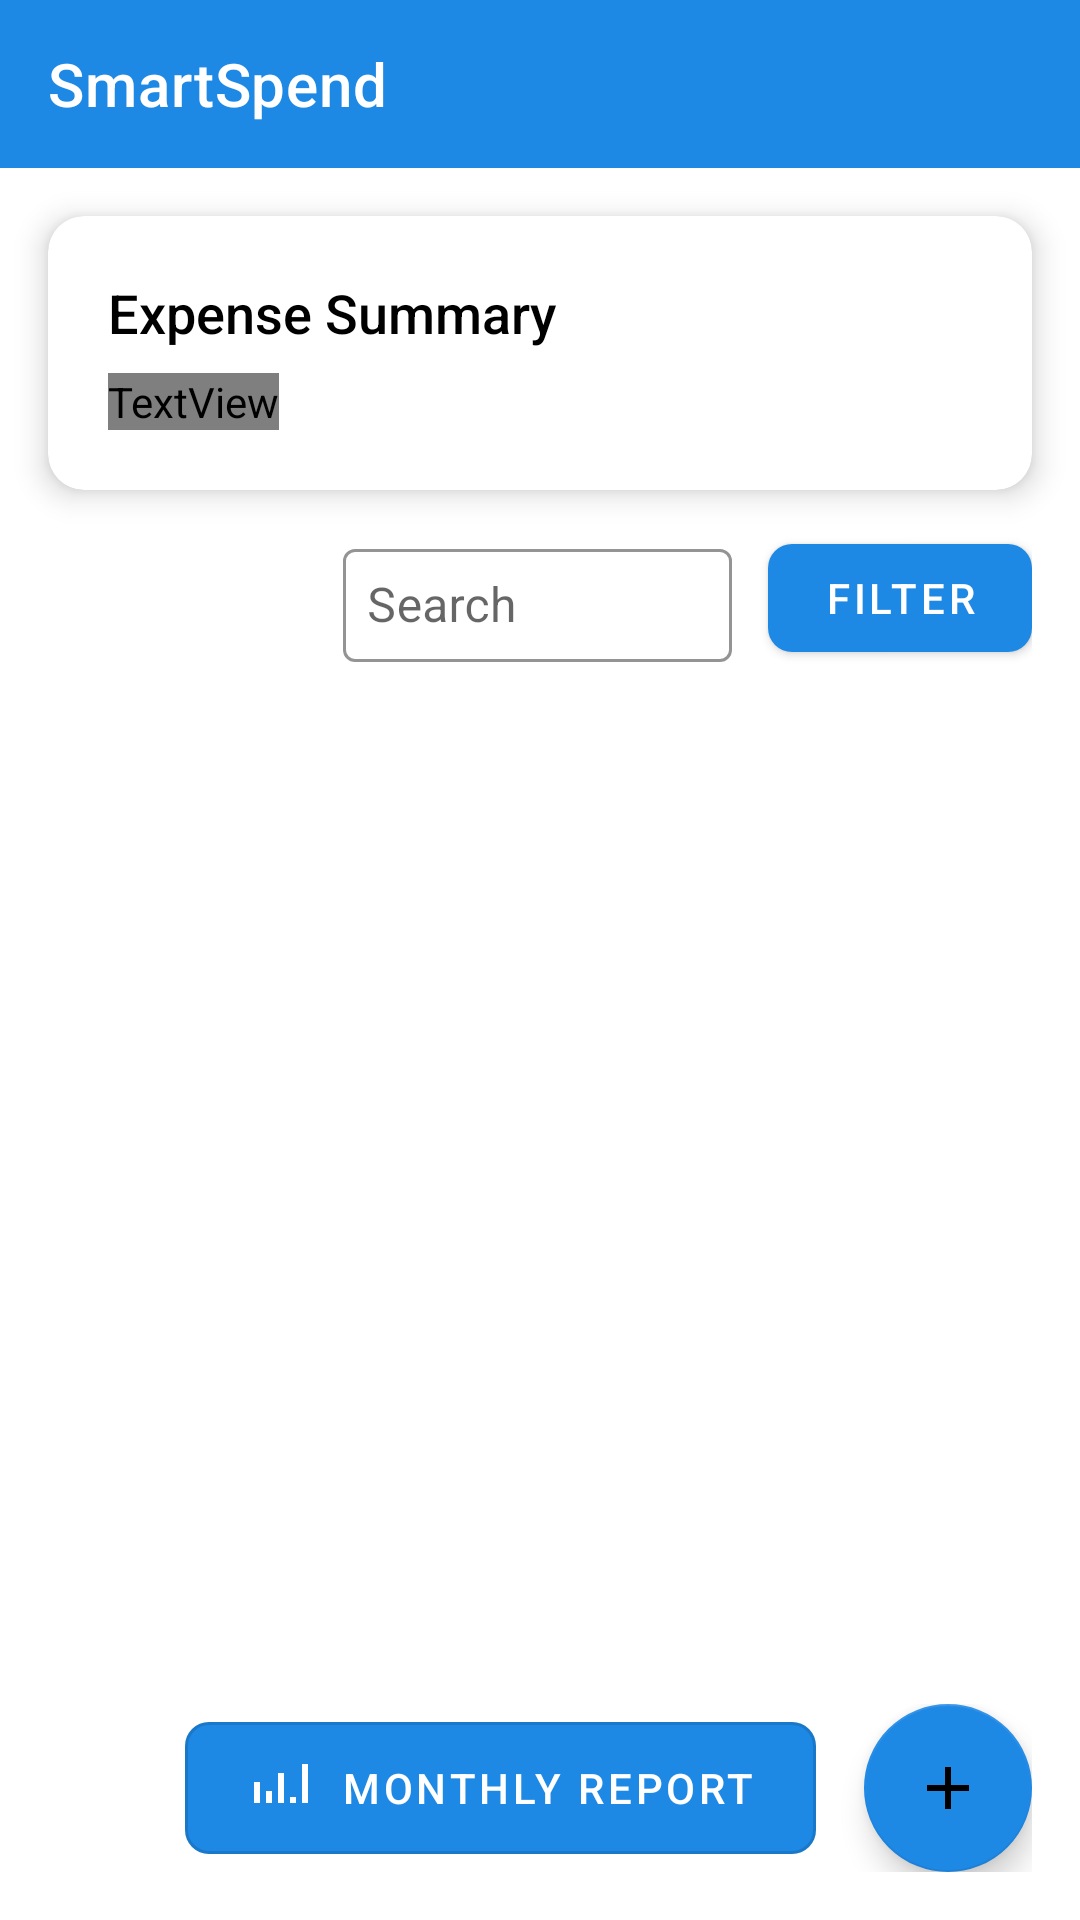

Screen size 1080px x 1920px. Icon name, then its center in pixels as point (x, y):
Add Expense: point (948, 1788)
